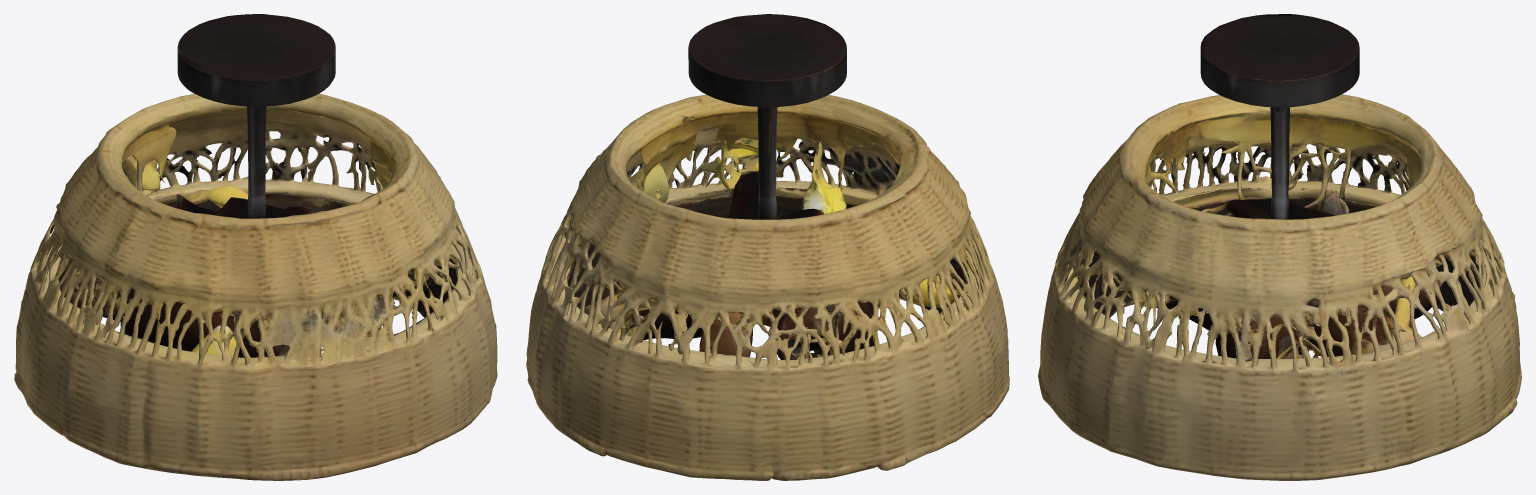
3 renders of one model, left to right at view 1: azimuth 30°, elevation 25°; view 2: azimuth 150°, elevation 25°; view 3: azimuth 270°, elevation 25°, orthographic.
Parts seen in each view (by area): view 1: geometry_0; view 2: geometry_0; view 3: geometry_0.
Boxes of the visible parts, box(x1,y1,x2,y2) form: geometry_0: box(14, 14, 497, 480); geometry_0: box(526, 14, 1009, 480); geometry_0: box(1038, 14, 1521, 480).
Bounding box in the file's own units: 0.9937 × 0.7651 × 0.9988.
Materials: 1 (1 with a texture image).
